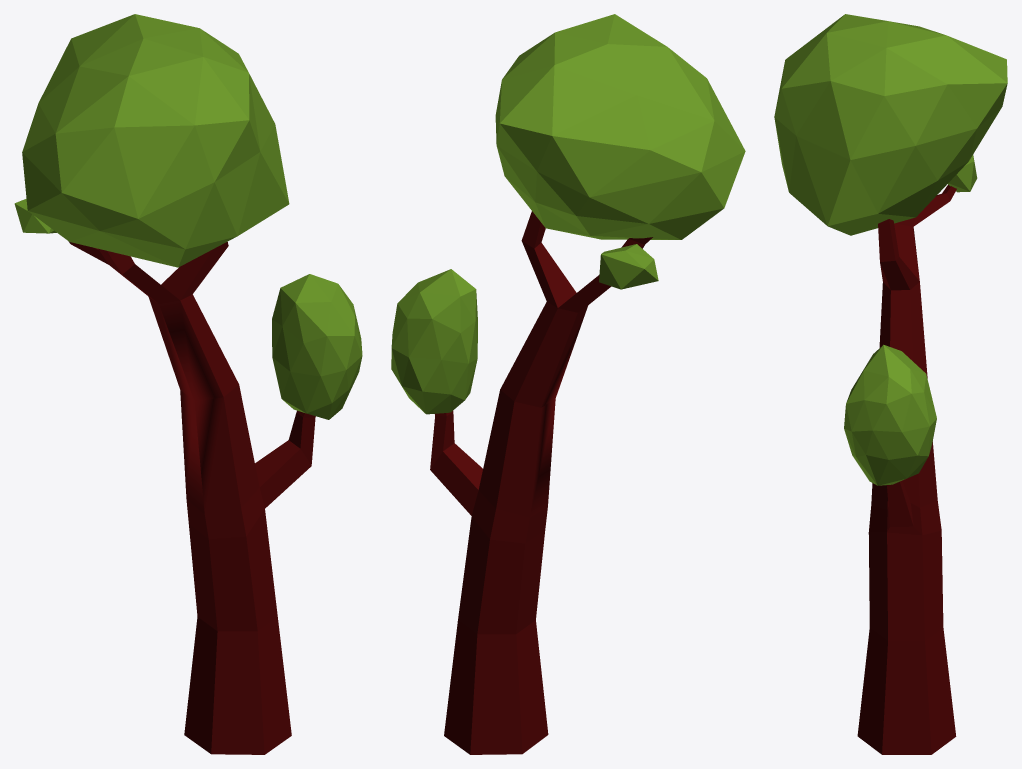
File: tree_1.glb
3 views of the same model, side by side, from view 1: azimuth 30°, elevation 25°; view 2: azimuth 150°, elevation 25°; view 3: azimuth 270°, elevation 25° (orthographic). The views are drawn at different scales.
Parts seen in each view (by area): view 1: tree_1; view 2: tree_1; view 3: tree_1.
Part boxes in pixels (x1,y1,x2,y2): tree_1: (14,14,362,754); tree_1: (391,14,745,754); tree_1: (774,14,1007,754).
Size of the model in its own units: 4.71 by 9.91 by 3.13.
Materials: 1 (1 with a texture image).
